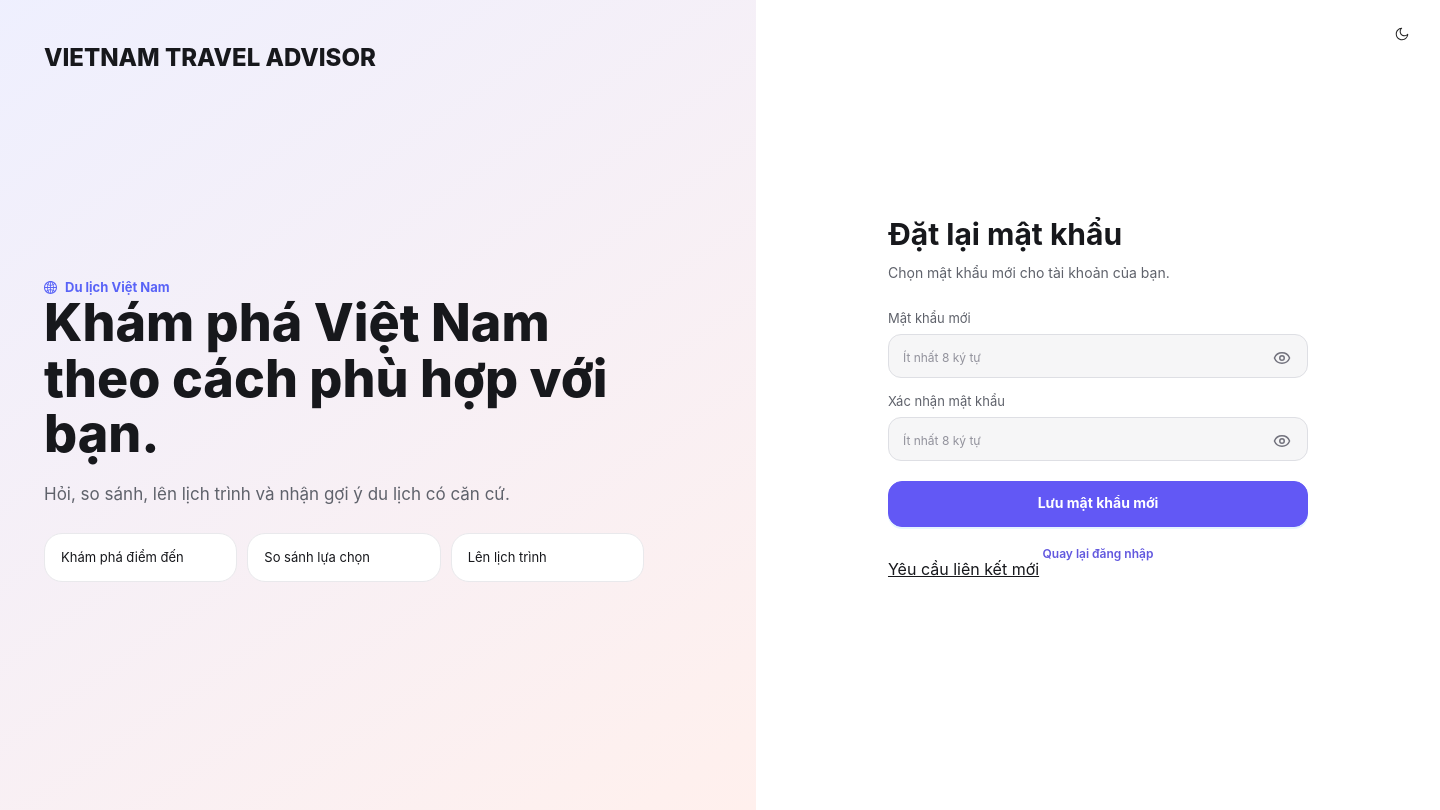
it: Authentication user flows › shows an expired-token error and offers a new link
Type "Password123!" into the password field labelled "Mật khẩu mới" at x=1098, y=356, box [888,334,1308,378]
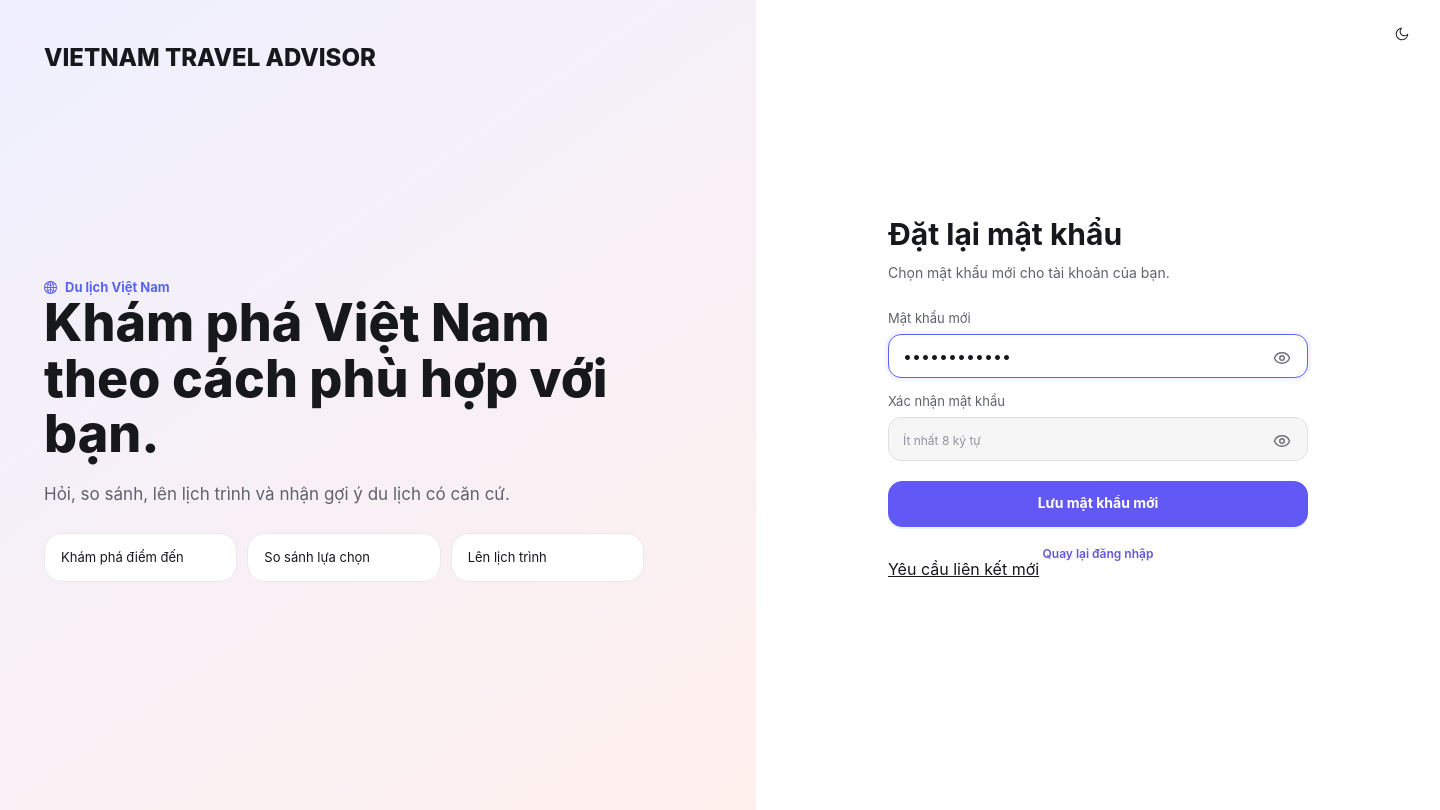
Type "Password123!" into the password field labelled "Xác nhận mật khẩu" at x=1098, y=438, box [888,416,1308,460]
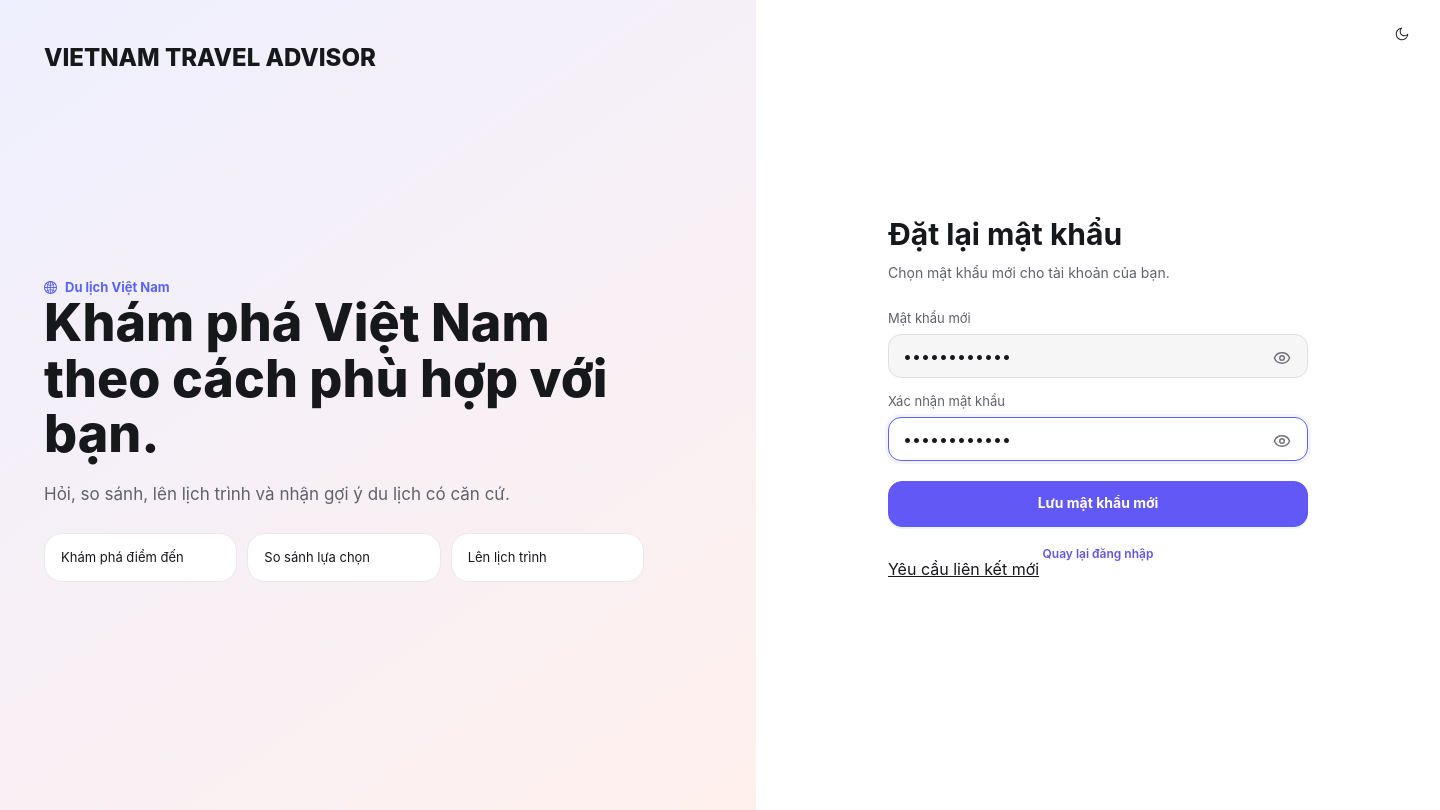
Click the button "Lưu mật khẩu mới" at x=1098, y=504, box [888,480,1308,526]
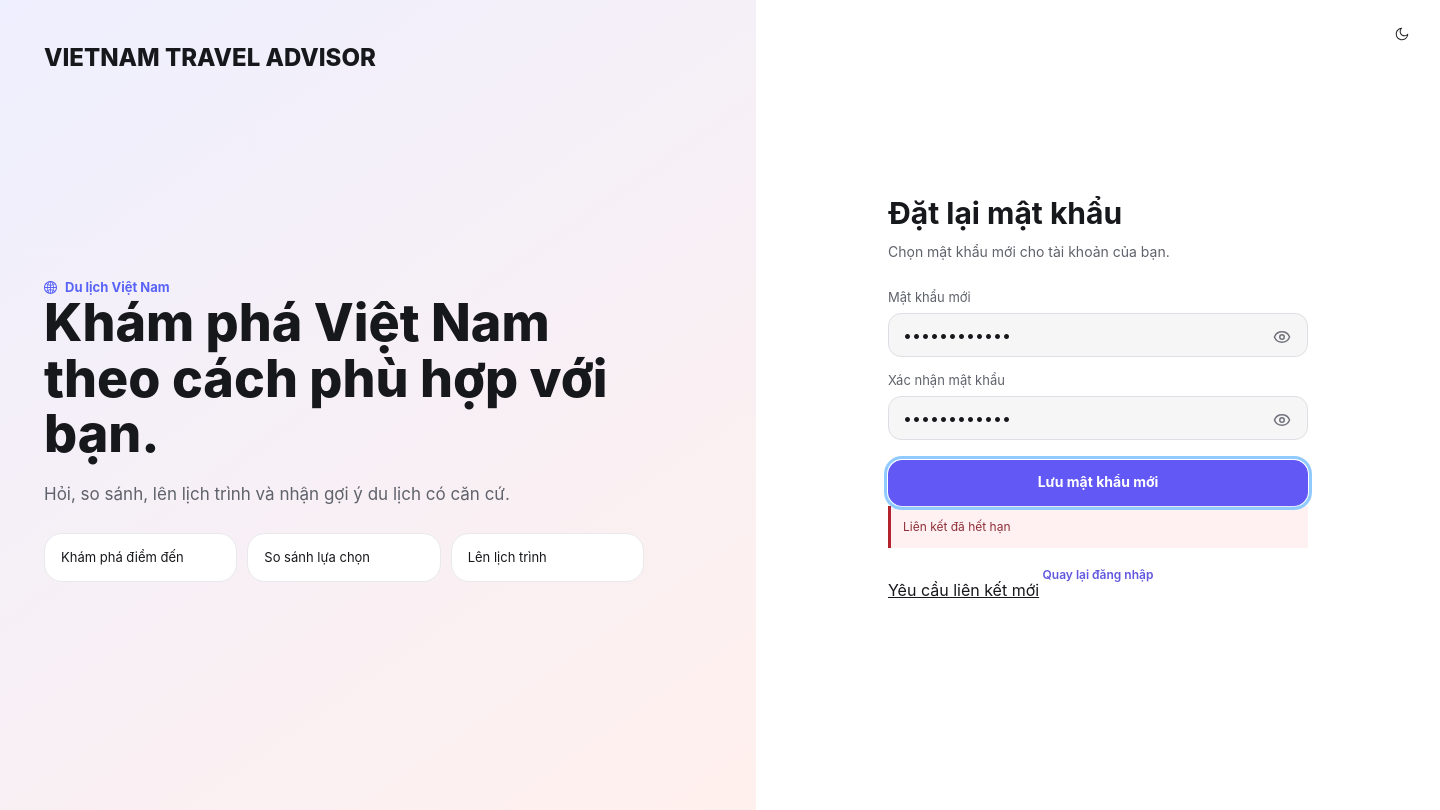
Expected: the link "Yêu cầu liên kết mới" is shown, [888,580,1039,600]
Now the message shows "hết hạn", box [903,518,1010,534]
